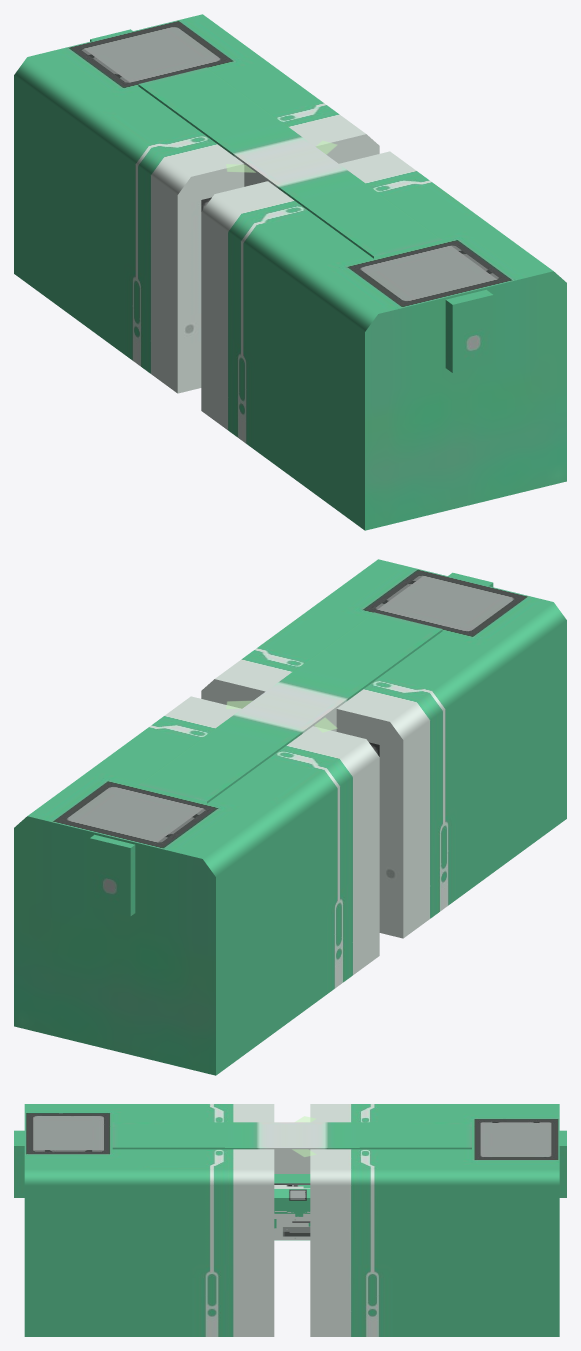
File: sorter-mk2.glb
3 renders of one model, top to bottom at view 1: azimuth 30°, elevation 25°; view 2: azimuth 150°, elevation 25°; view 3: azimuth 270°, elevation 25°, orthographic. The views are drawn at different scales.
Parts seen in each view (by area): view 1: BRail, ARail, BCap; view 2: ARail, BRail, ACap; view 3: BRail, ARail, grabberLoaded, BCap, ACap, grabber.
Part boxes in pixels (box(x1,y1,x2,y2)): BRail: box(201, 151, 566, 530); ARail: box(14, 14, 379, 393); BCap: box(445, 289, 493, 372); ARail: box(14, 696, 379, 1075); BRail: box(201, 559, 566, 938); ACap: box(90, 834, 135, 916); BRail: box(24, 1104, 297, 1336); ARail: box(287, 1104, 559, 1336); grabberLoaded: box(274, 1185, 310, 1240); BCap: box(14, 1130, 24, 1197); ACap: box(559, 1130, 566, 1197); grabber: box(274, 1174, 310, 1184).
Size of what is drawn, in the model's own units: 0.99 by 1.01 by 3.08.
Materials: 2 (2 with a texture image).
